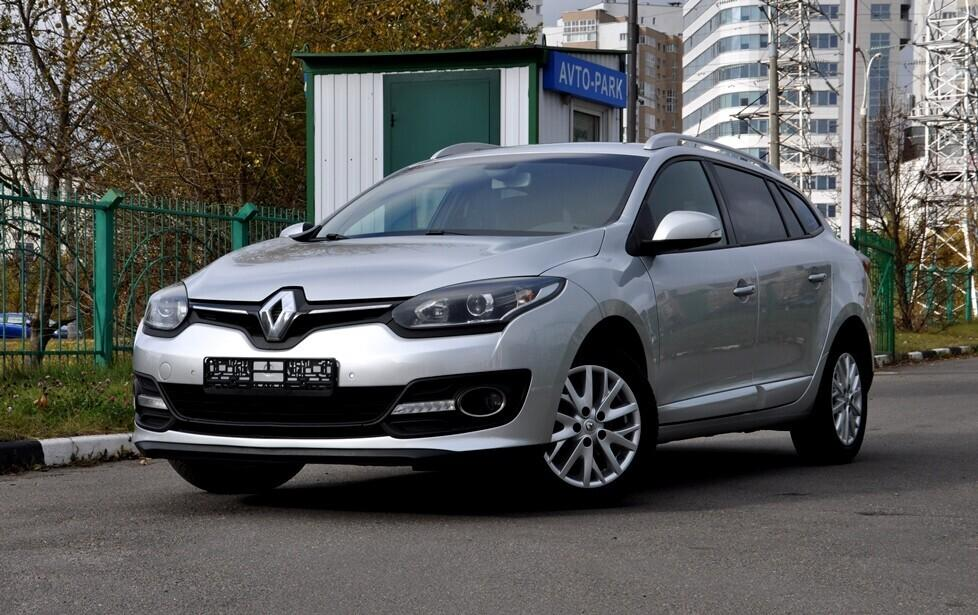Megane_2014-2016: (125, 129, 887, 515)
